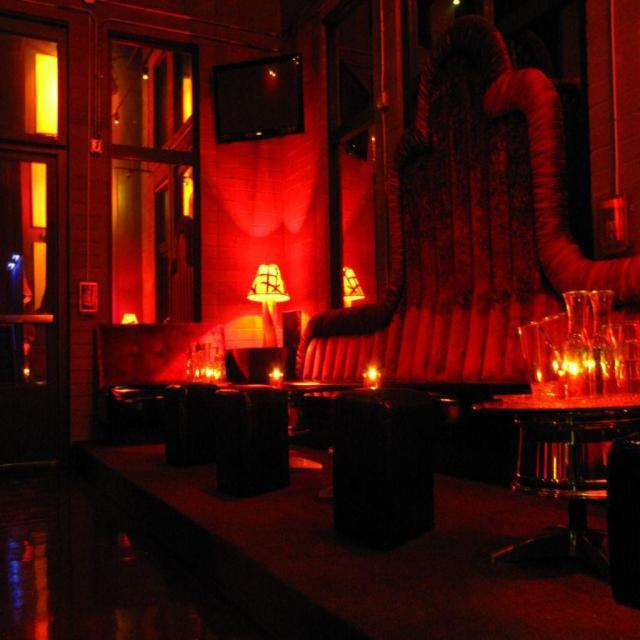other: (22, 46, 69, 208), (523, 327, 625, 390), (236, 254, 288, 316), (346, 350, 386, 386), (333, 264, 362, 304), (186, 358, 223, 379), (257, 360, 288, 383), (120, 303, 140, 332)
